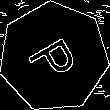P_NE: (23, 28, 85, 86)
